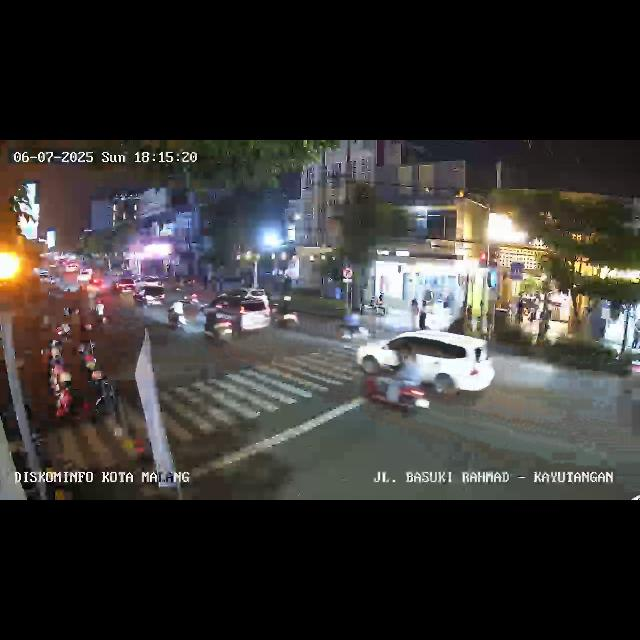car: (356, 332, 494, 398), (210, 292, 272, 338), (130, 282, 167, 310)
motorcycle: (358, 342, 438, 422), (202, 302, 234, 346), (270, 294, 300, 334), (338, 312, 374, 344), (168, 300, 186, 332), (92, 294, 108, 326)
person: (408, 294, 418, 328), (540, 306, 550, 340), (418, 300, 429, 330), (527, 304, 537, 330), (632, 325, 640, 349)
